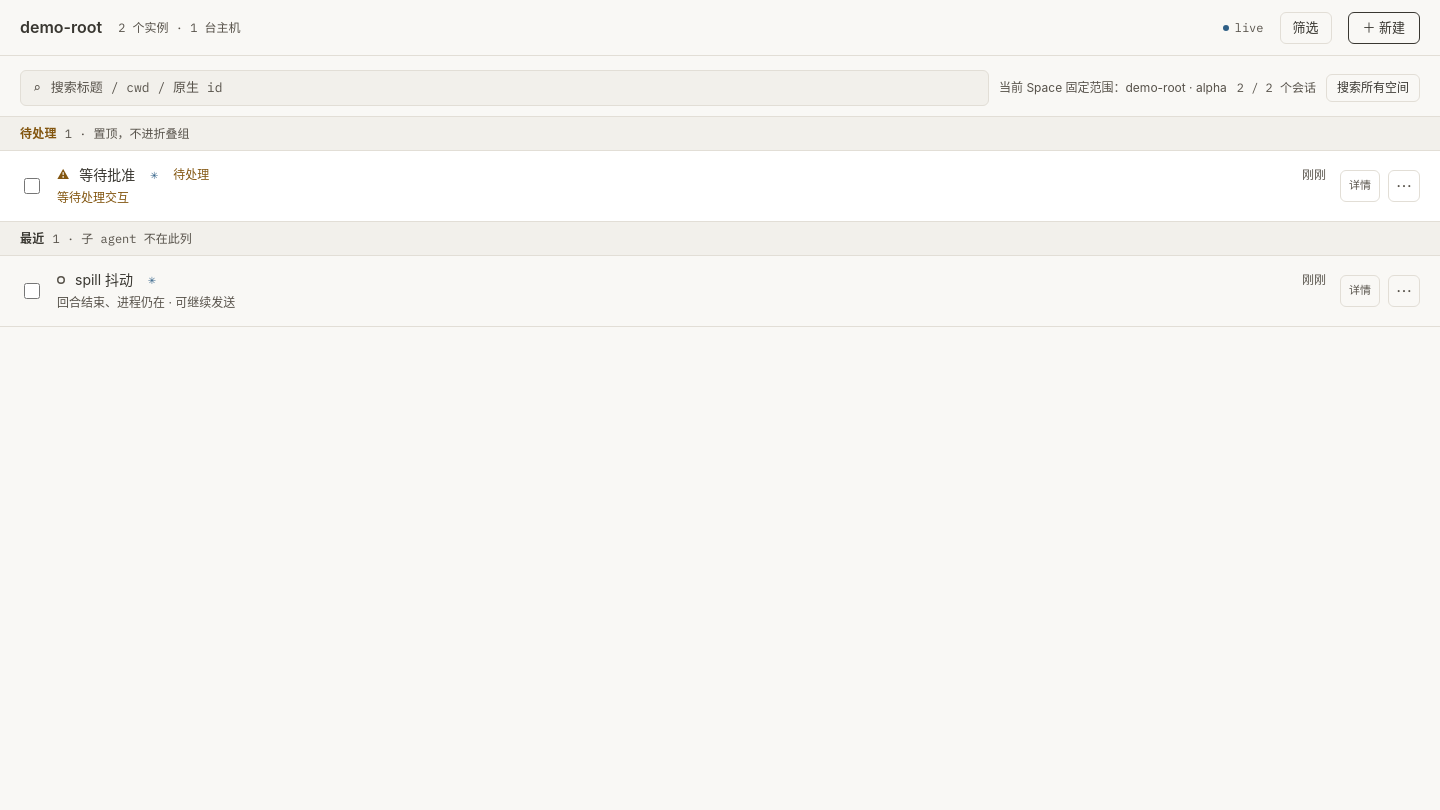
Scenario: SessionList scope and conditions › opens and closes the filter panel with aria-expanded tracking it
The image size is (1440, 810).
Click the button with test id "session-filter-open" at (1306, 28), box [1280,12,1332,44]
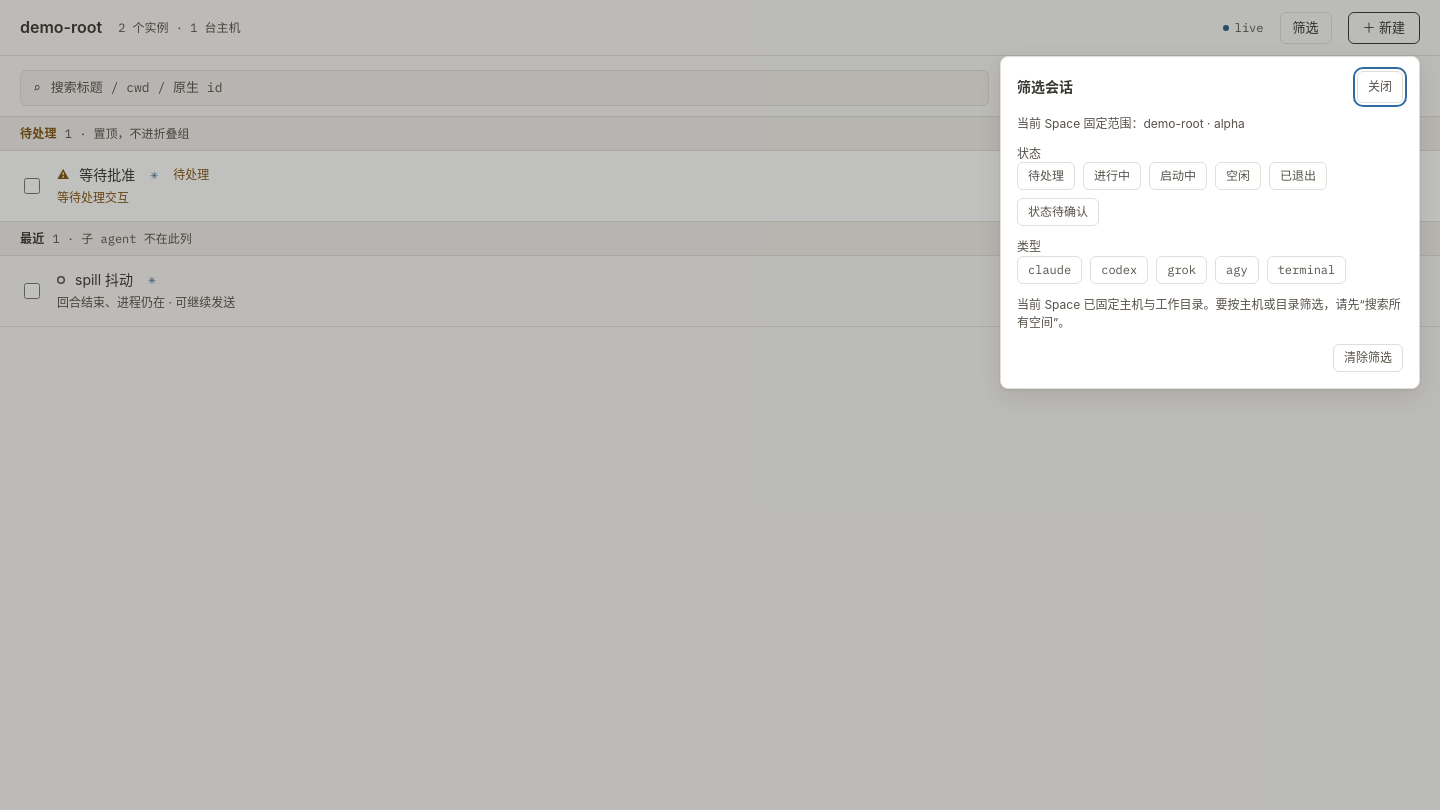
Expected: the button with test id "session-filter-open" is expanded, [1280,12,1332,44]
Press Escape
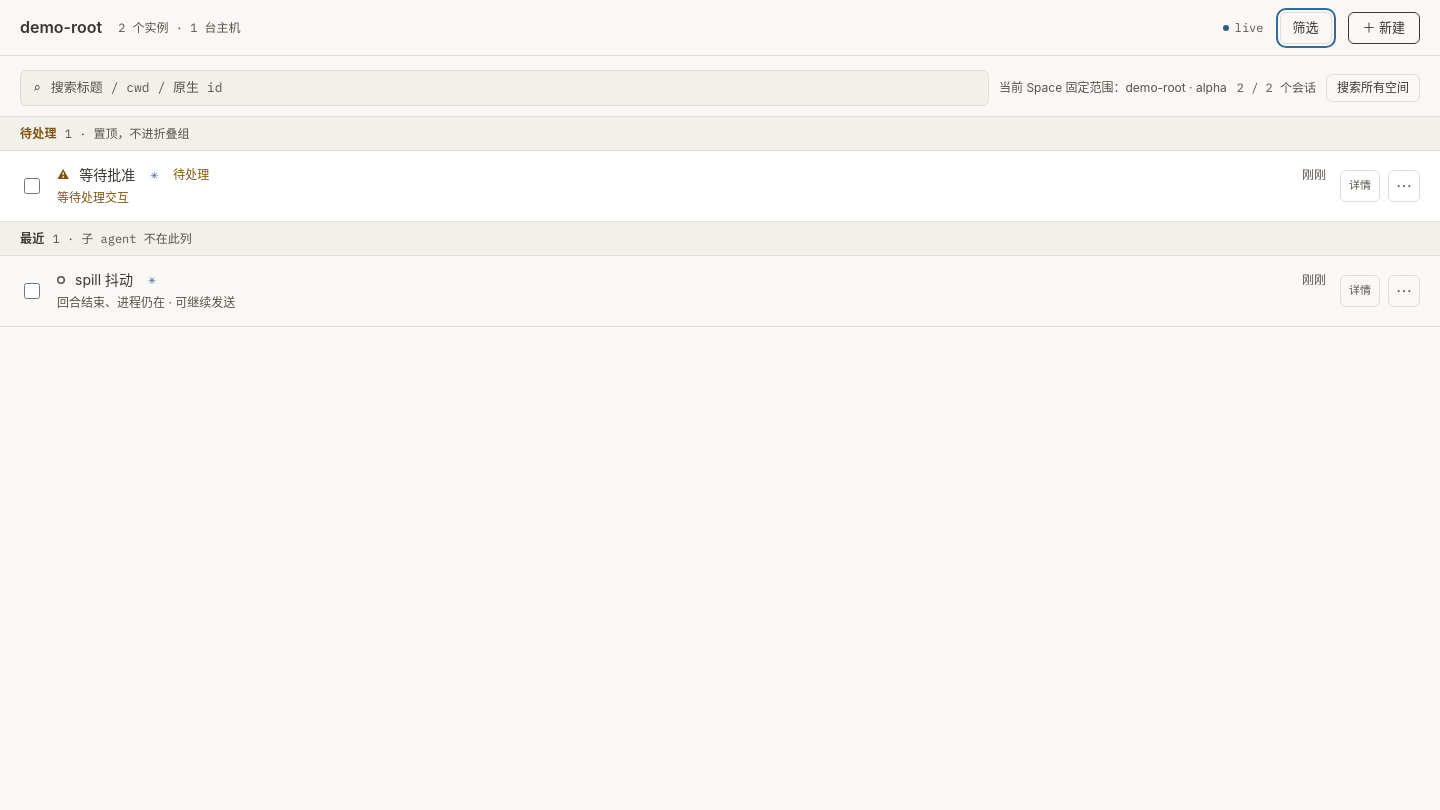
Expected: the button with test id "session-filter-open" is collapsed, [1280,12,1332,44]
